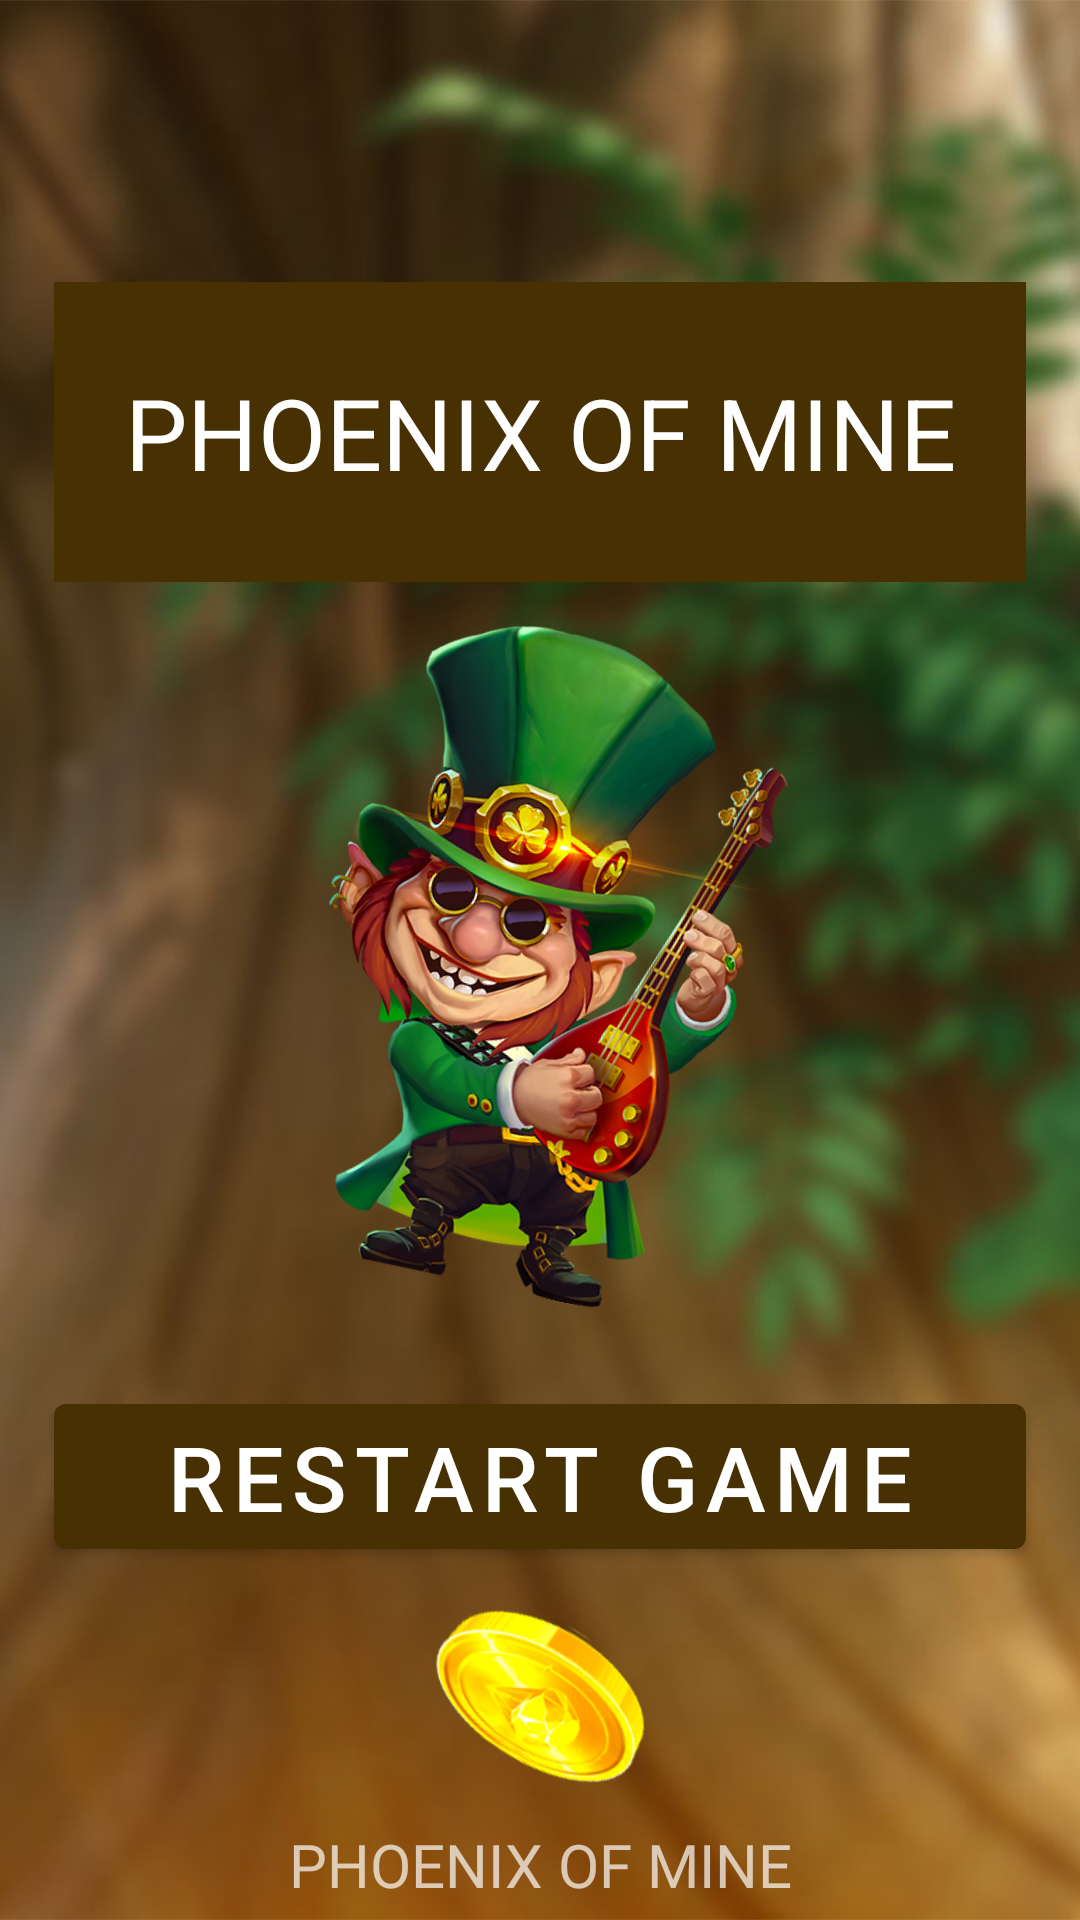

Screen size 1080px x 1920px. Icon name, then its box in pixels as (x1, y1, x2, y2):
coin: (436, 1591, 644, 1783)
